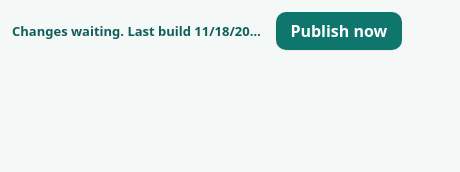
Test case: PublishStatus › publishes once and disables the button for 60 seconds
Click the button "Publish now".
click(339, 31)  # box [276,12,402,50]
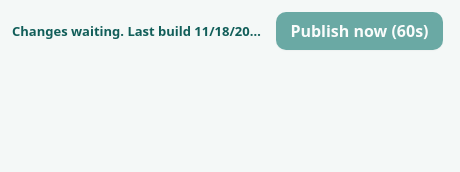
Expected: the button "Publish now (60s)" is disabled, [276,12,443,50]
